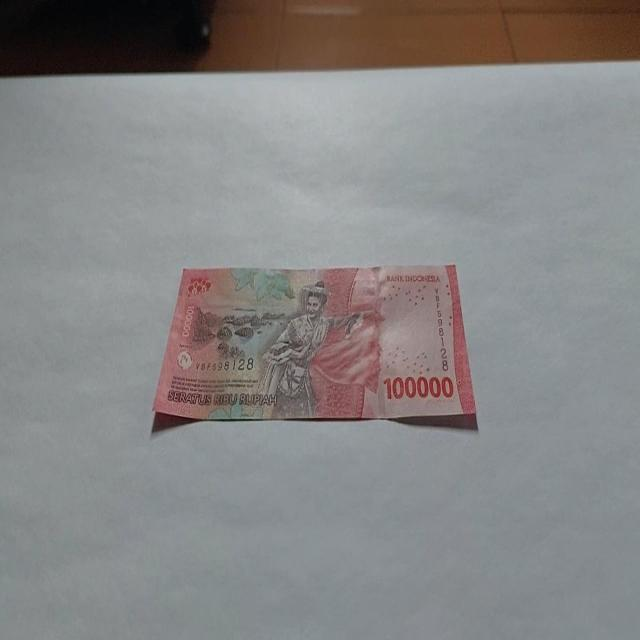Kertas: (150, 261, 478, 434), (382, 372, 454, 402)
